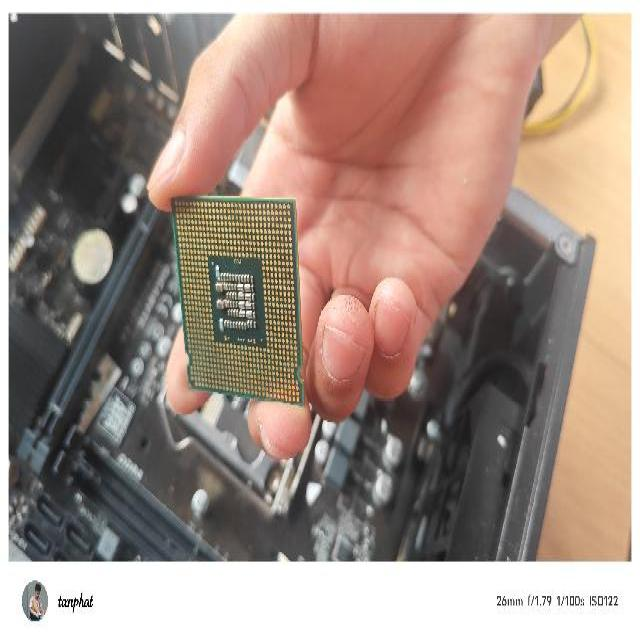CPU: (168, 194, 307, 408)
